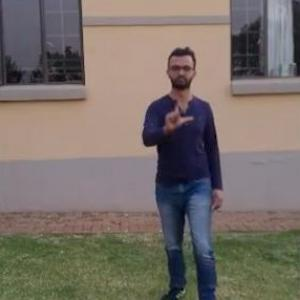land_hand: (163, 98, 192, 132)
